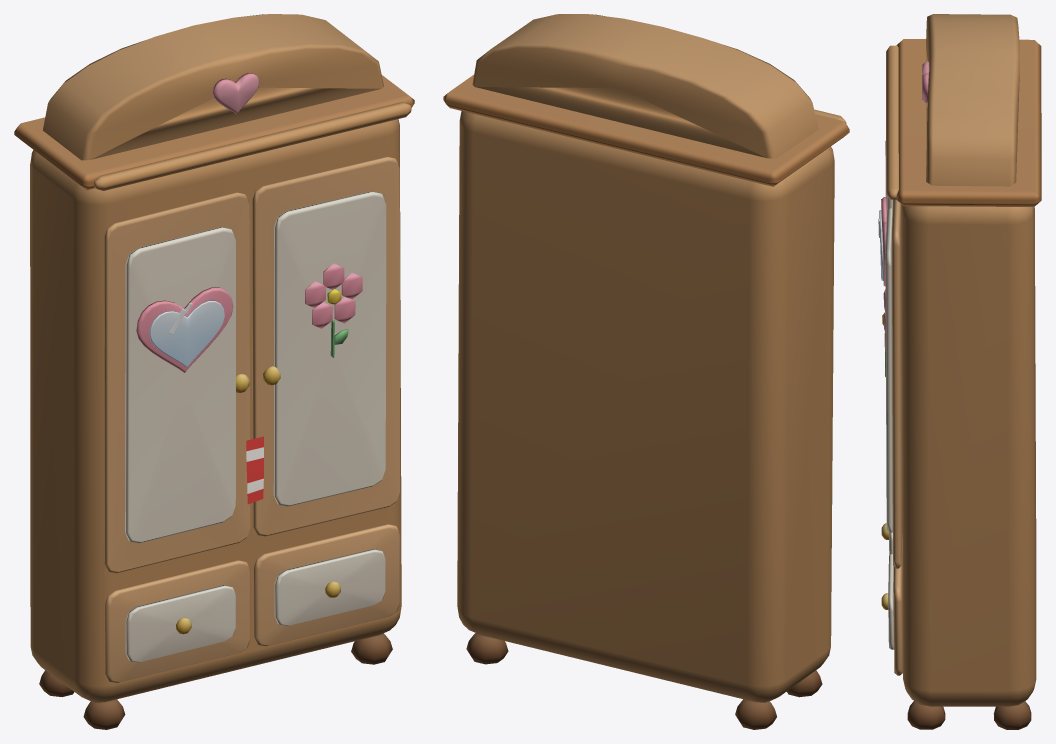
File: furn-wardrobe.glb
3 renders of one model, left to right at view 1: azimuth 30°, elevation 25°; view 2: azimuth 150°, elevation 25°; view 3: azimuth 270°, elevation 25°, orthographic. The views are drawn at different scales.
Parts seen in each view (by area): view 1: body, cloth; view 2: body; view 3: body.
Boxes of the visible parts, box(x1,y1,x2,y2) form: body: box(14, 14, 414, 729); cloth: box(246, 436, 263, 504); body: box(443, 14, 849, 729); body: box(878, 14, 1041, 729).
Size of the model in its own units: 0.9559 by 1.71 by 0.4167.
